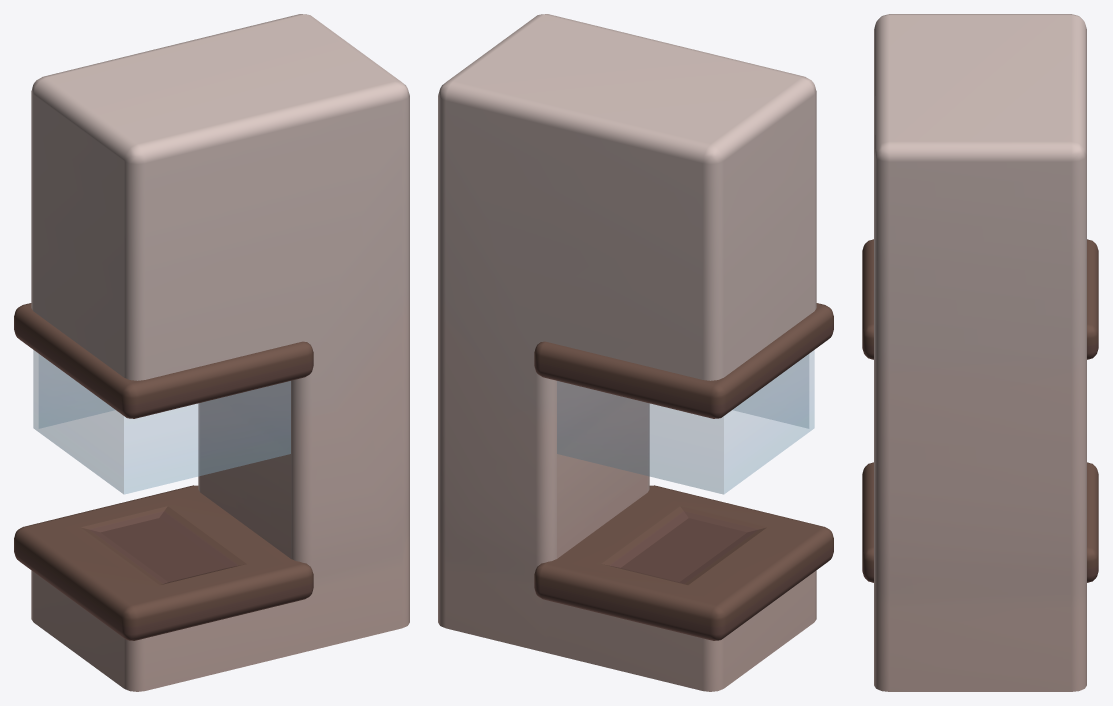
File: Fireplace_04.glb
3 views of the same model, side by side, from view 1: azimuth 30°, elevation 25°; view 2: azimuth 150°, elevation 25°; view 3: azimuth 270°, elevation 25° (orthographic).
Visible parts, largest first — view 1: Fireplace_04; view 2: Fireplace_04; view 3: Fireplace_04.
Part boxes in pixels (x1,y1,x2,y2): Fireplace_04: (14,14,409,691); Fireplace_04: (438,14,833,691); Fireplace_04: (862,14,1098,691).
Size of the model in its own units: 0.88 by 1.55 by 0.61.
2 materials, 2 textured.
